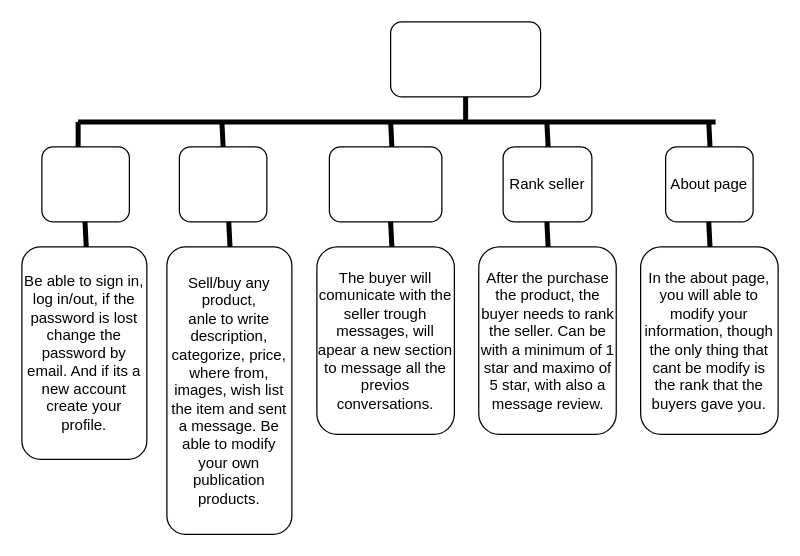
Image size: 800x556. Some labels were removed from this diagram. The shapes that lost their labels are listed below. From the top down, each one's centre as x and y in pixels, then its label:
point 465,59: Project
point 85,184: User
point 222,184: Products
point 385,184: Comunication
